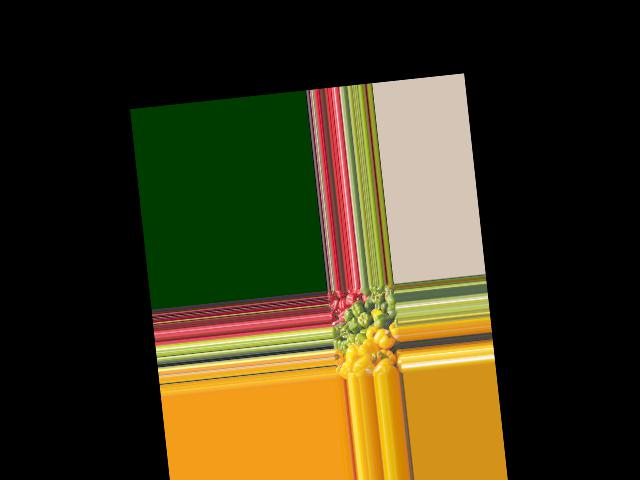bell_pepper: (383, 284, 396, 301)
